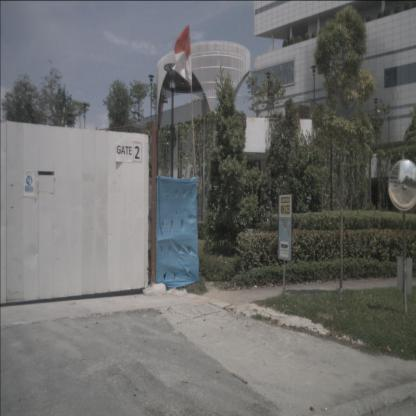vehicle-car: (402, 183, 407, 190)
